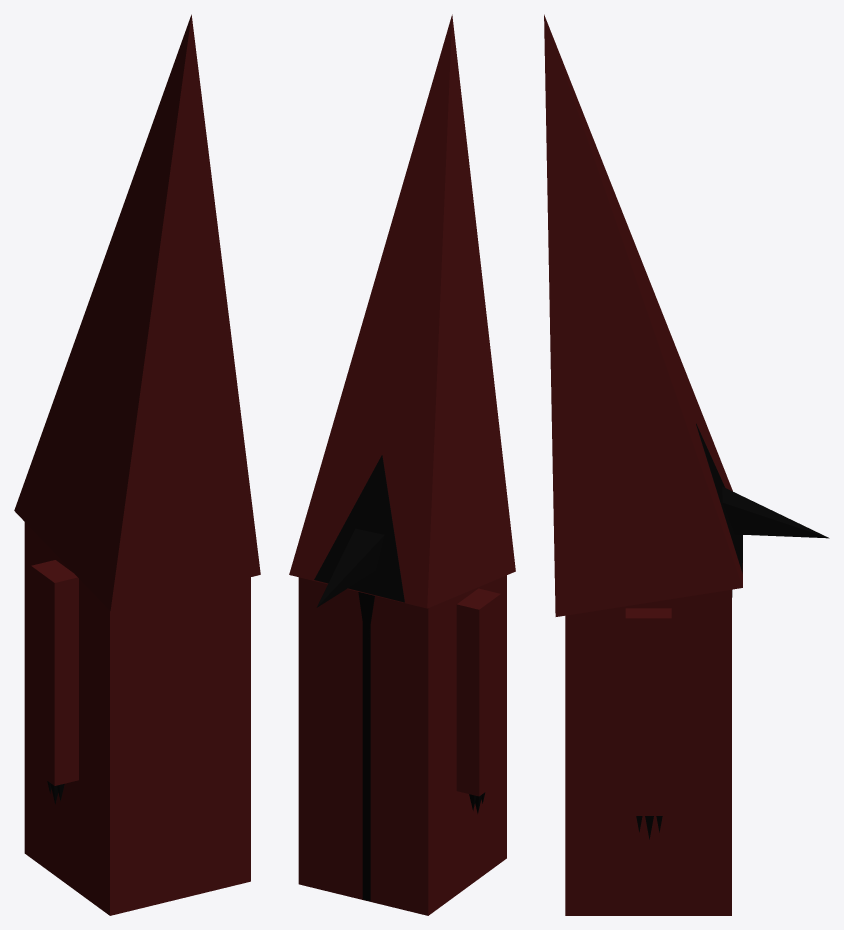
File: Enemy.fbx
The picture shows the model from 3 angles, left to right: view 1: azimuth 30°, elevation 25°; view 2: azimuth 150°, elevation 25°; view 3: azimuth 270°, elevation 25°; orthographic projection. The views are drawn at different scales.
Parts seen in each view (by area): view 1: enemy; view 2: enemy; view 3: enemy.
Part boxes in pixels (bbox=[...]): enemy: bbox=[14, 14, 260, 915]; enemy: bbox=[289, 14, 515, 915]; enemy: bbox=[544, 14, 829, 915].
Bounding box in the file's own units: 48.8 × 223 × 66.68.
